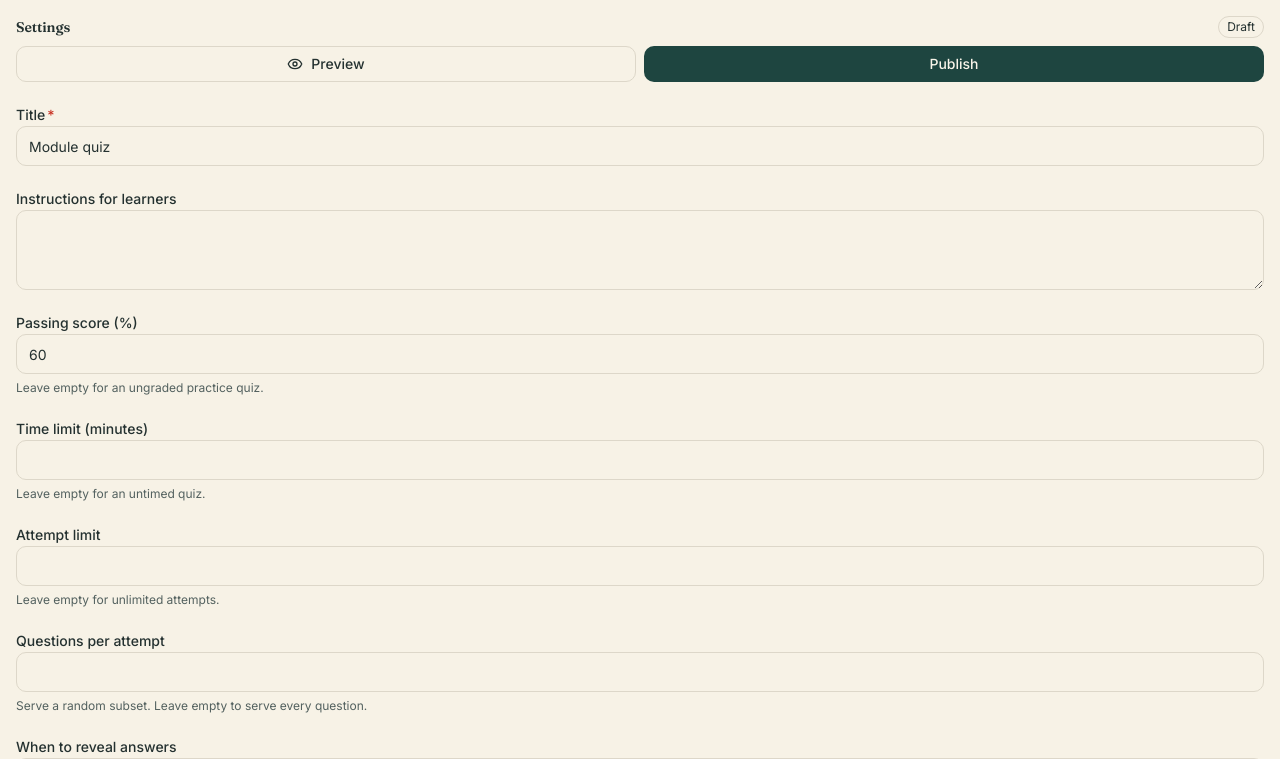
publishing › never shows Published optimistically when the guard refuses
Step 1. Click the button "Publish" → [954, 64], box [644,46,1264,82]
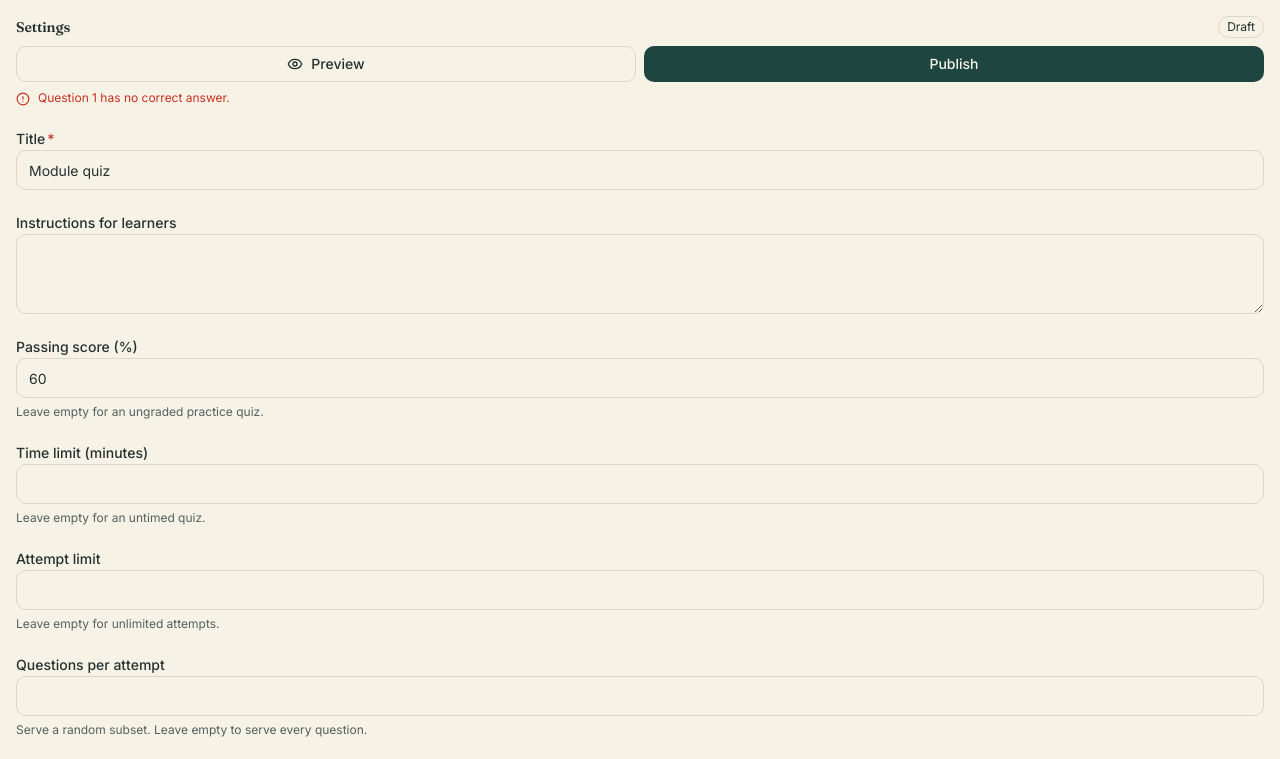
Expected: the text "Draft" is shown, [1218,16,1264,38]
Expected: the text "Question 1 has no correct answer." is shown, [16,90,230,106]
